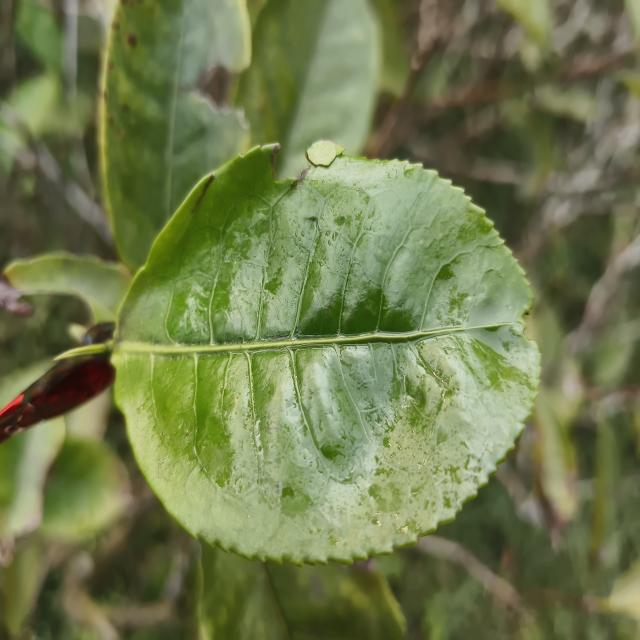Leaf: (112, 145, 539, 563), (99, 0, 251, 271), (236, 0, 381, 178), (40, 437, 130, 542), (533, 387, 577, 539)
